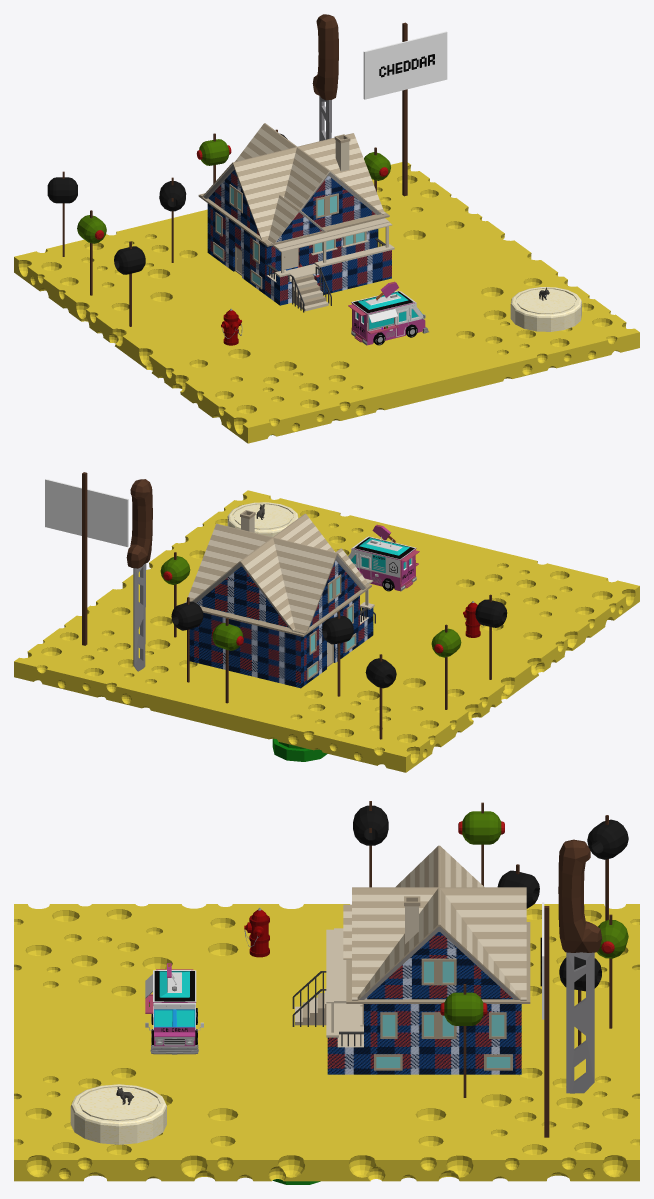
3 views of the same model, one above another, from view 1: azimuth 30°, elevation 25°; view 2: azimuth 150°, elevation 25°; view 3: azimuth 270°, elevation 25° (orthographic). The views are drawn at different scales.
Parts seen in each view (by area): view 1: Cube.022, Cube.171, Cube.023, VEHICLES_ICE_CREAM_TRUCK, Cylinder.016, Cube.024, Sphere.017, Sphere.016, Sphere.020, Sphere.018, Sphere.022, Sphere.019; view 2: Cube.022, Cube.171, Cube.023, Cube.024, VEHICLES_ICE_CREAM_TRUCK, Cylinder.016, Sphere.020, Sphere.016, Sphere.022, Sphere.017, Sphere.021, Sphere.018 (+3 smaller); view 3: Cube.022, Cube.171, Cube.024, Cylinder.016, VEHICLES_ICE_CREAM_TRUCK, Cube.023, Sphere.019, Sphere.016, Sphere.018, Sphere.017, Sphere.022, OBJRANDOM_FIRE_HYDRANT (+2 smaller).
Boxes of the visible parts, <box> form: Cube.022: <box>14,162,639,443</box>; Cube.171: <box>198,123,394,312</box>; Cube.023: <box>363,22,447,196</box>; VEHICLES_ICE_CREAM_TRUCK: <box>348,281,428,345</box>; Cylinder.016: <box>510,287,581,331</box>; Cube.024: <box>312,14,338,141</box>; Sphere.017: <box>114,241,145,326</box>; Sphere.016: <box>47,171,77,256</box>; Sphere.020: <box>159,177,186,262</box>; Sphere.018: <box>77,210,106,295</box>; Sphere.022: <box>196,133,231,183</box>; Sphere.019: <box>364,147,390,191</box>; Cube.022: <box>14,490,639,772</box>; Cube.171: <box>184,510,375,688</box>; Cube.023: <box>45,472,128,645</box>; Cube.024: <box>126,479,152,671</box>; VEHICLES_ICE_CREAM_TRUCK: <box>348,524,419,591</box>; Cylinder.016: <box>227,502,298,536</box>; Sphere.020: <box>322,611,353,696</box>; Sphere.016: <box>365,654,396,739</box>; Sphere.022: <box>212,618,243,703</box>; Sphere.017: <box>475,594,507,679</box>; Sphere.021: <box>171,597,203,682</box>; Sphere.018: <box>431,624,461,709</box>; Cube.022: <box>14,904,639,1181</box>; Cube.171: <box>292,845,530,1074</box>; Cube.024: <box>558,839,602,1093</box>; Cylinder.016: <box>70,1084,166,1144</box>; VEHICLES_ICE_CREAM_TRUCK: <box>145,963,203,1054</box>; Cube.023: <box>540,902,549,1137</box>; Sphere.019: <box>440,984,487,1097</box>; Sphere.016: <box>587,815,628,920</box>; Sphere.018: <box>458,802,504,885</box>; Sphere.017: <box>353,801,388,887</box>; Sphere.022: <box>597,914,628,1028</box>; OBJRANDOM_FIRE_HYDRANT: <box>244,907,269,957</box>.
Size of the model in its own units: 3917 by 2590 by 4000.
41 materials, 4 textured.
